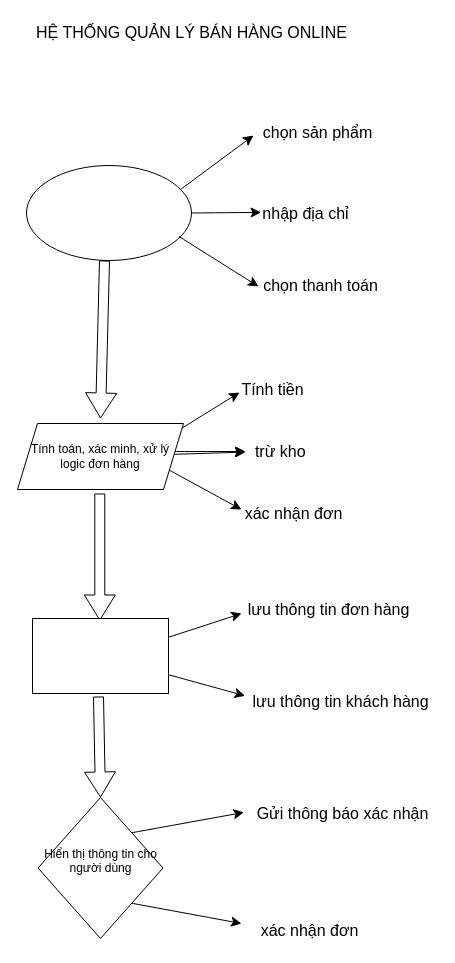
Image size: 455x963. Some labels were removed from this diagram. The centre of each missing label's shape, as x and y in pixels:
Ghi dữ liệu vào cơ sở dữ liệu: pixel 100 656
Người dùng nhập thông tin mua: pixel 109 212
